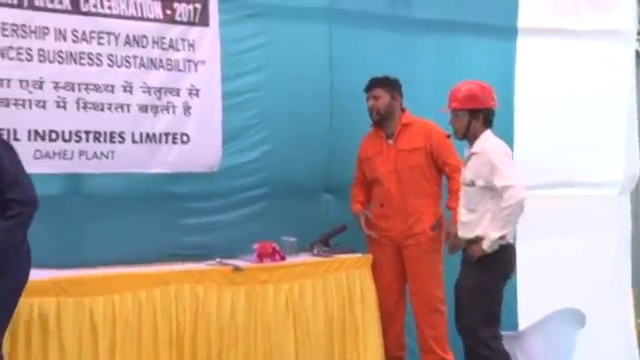helmet: (440, 79, 499, 114)
helmet_off: (364, 73, 404, 126)
helmet_on: (438, 77, 500, 144)
person: (350, 73, 466, 359), (436, 78, 528, 360)
